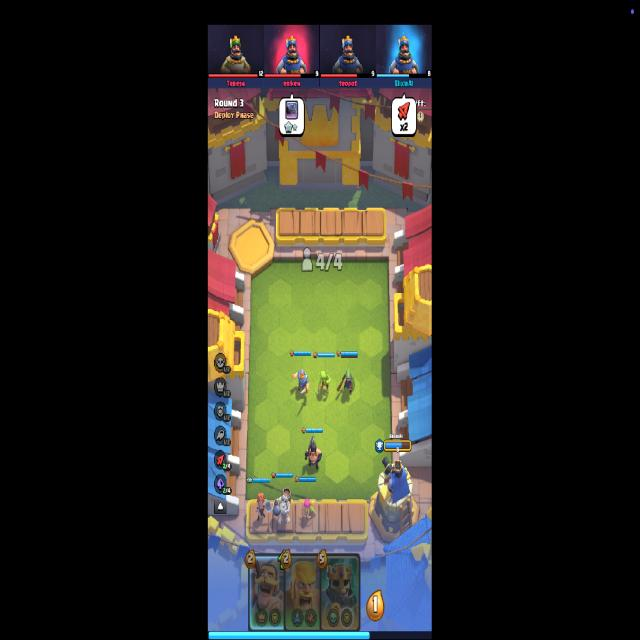archer: (301, 498, 316, 524)
bandit: (337, 368, 357, 396)
card_barbarian: (284, 551, 324, 632)
card_knight: (248, 554, 287, 630)
card_skeleton_king: (319, 552, 360, 633)
executioner: (304, 434, 323, 474)
giant_skeleton: (274, 488, 292, 522)
goblin: (317, 369, 331, 397)
knight: (292, 368, 310, 396)
valkyrie: (253, 492, 270, 522)
